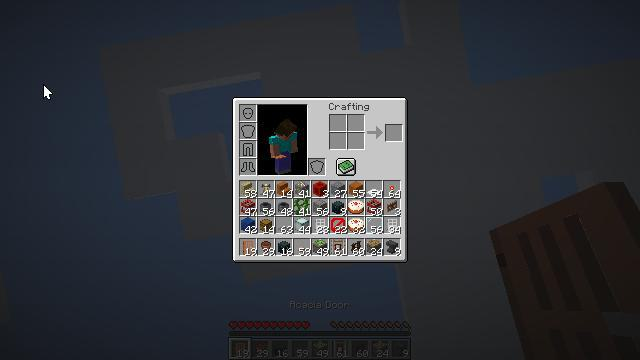cursor: (84, 43, 100, 53)
